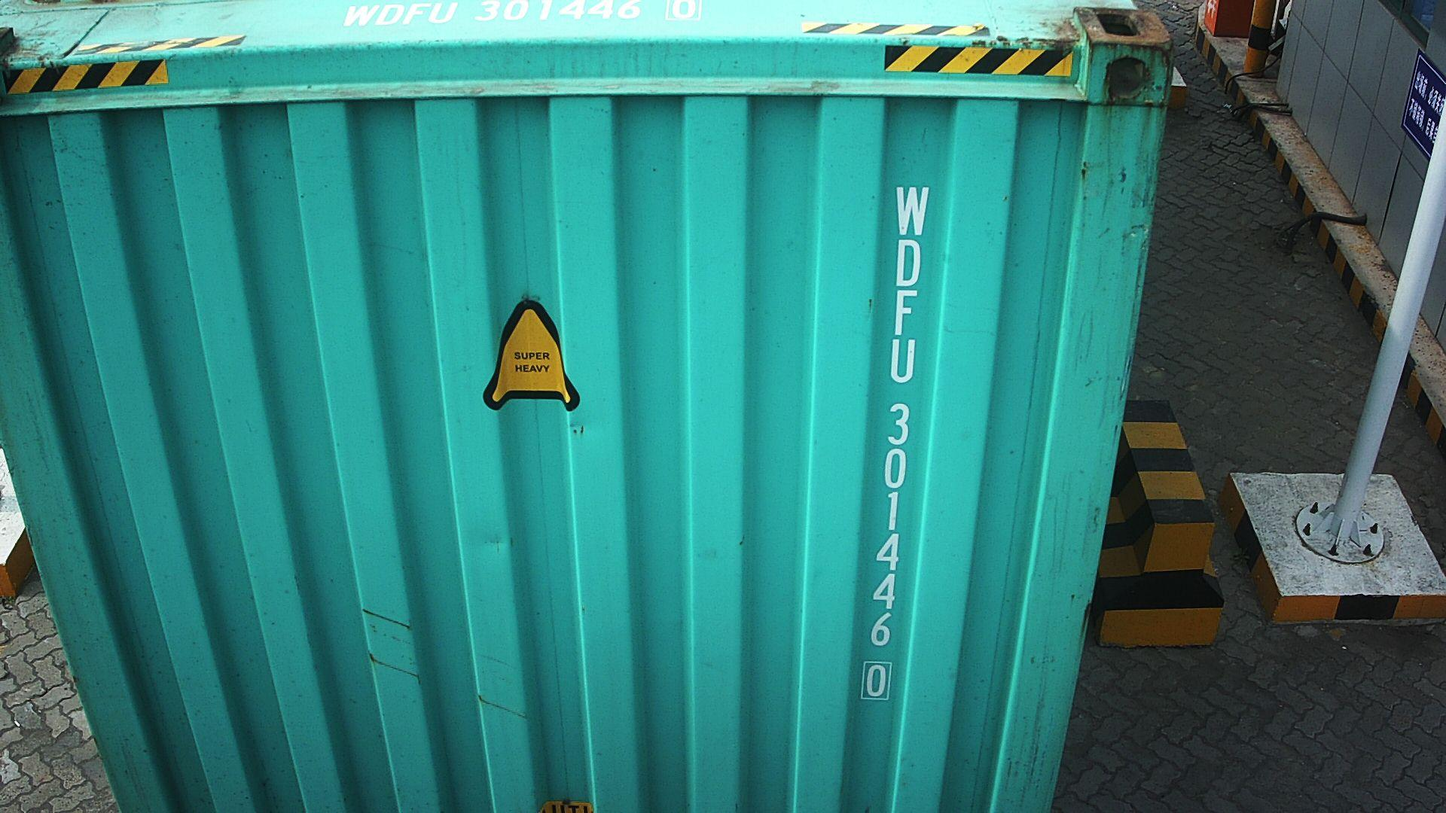container-numbers: (858, 182, 933, 705), (335, 0, 708, 31)
